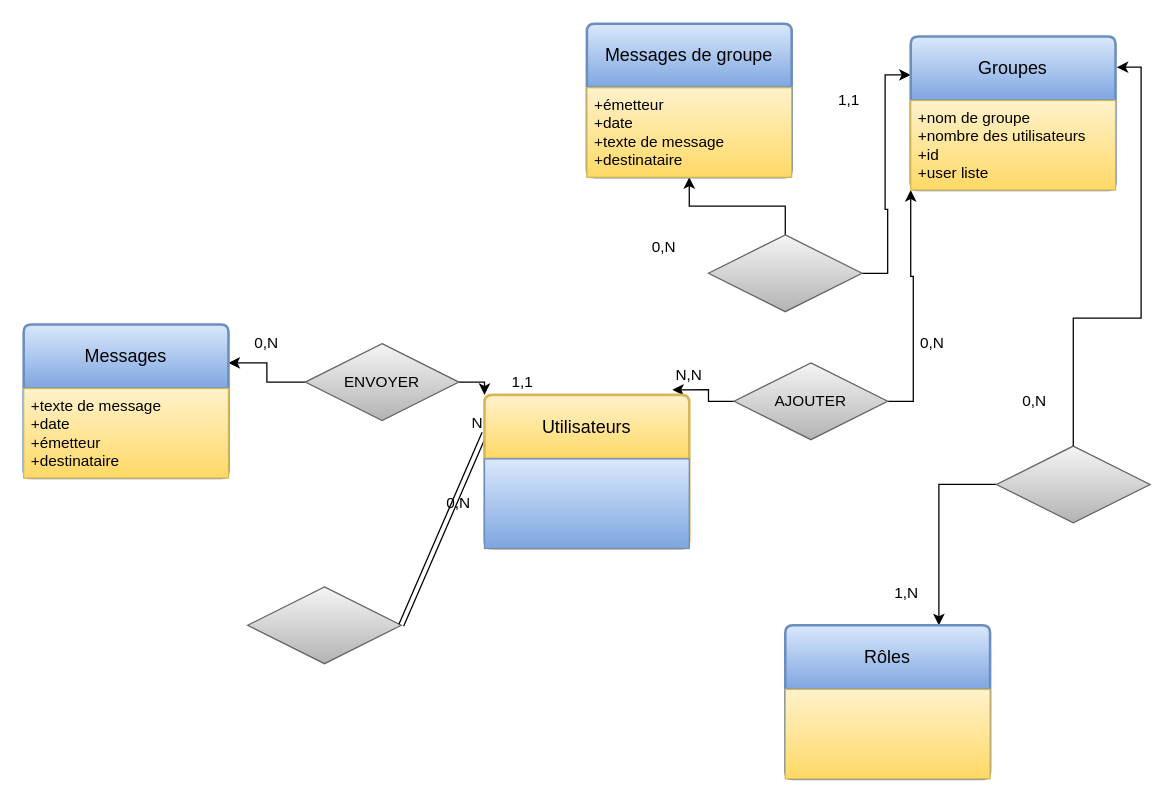
Image size: 1174x801. Some labels were removed from this diagram. The shapes that lost their labels are listed below. From the top down, each one's centre as x and y in pixels, then its label:
pixel 784 273: PARTAGER
pixel 586 503: +id +nom d'utilisateur +mot de passé +adresse mail
pixel 1072 484: ASIGNER
pixel 323 625: AMIS
pixel 887 733: +nom de rôle +les droits
